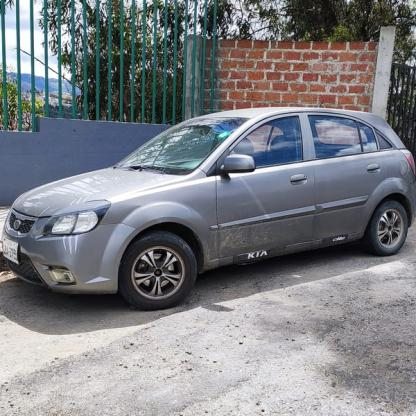Placa: (0, 236, 24, 266)
